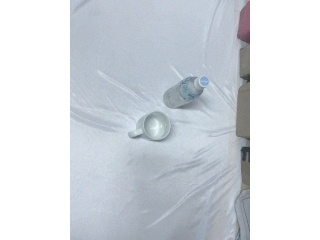bottle: (163, 75, 209, 109)
cup: (128, 109, 172, 143)
